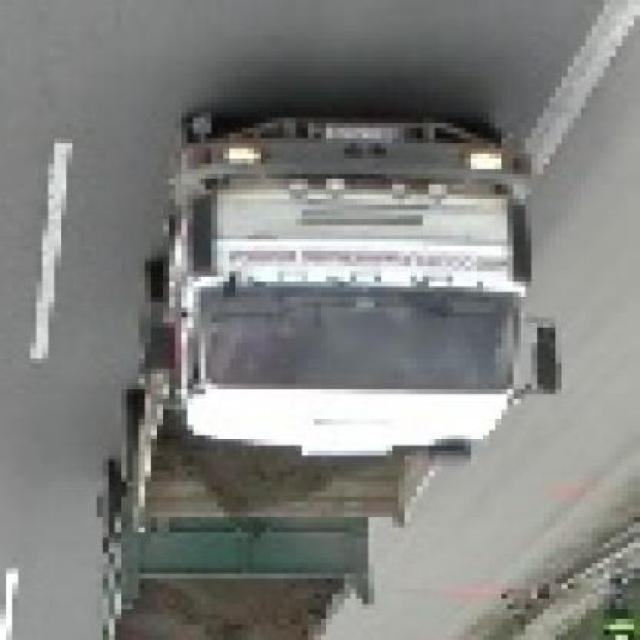truck: (80, 98, 557, 640)
